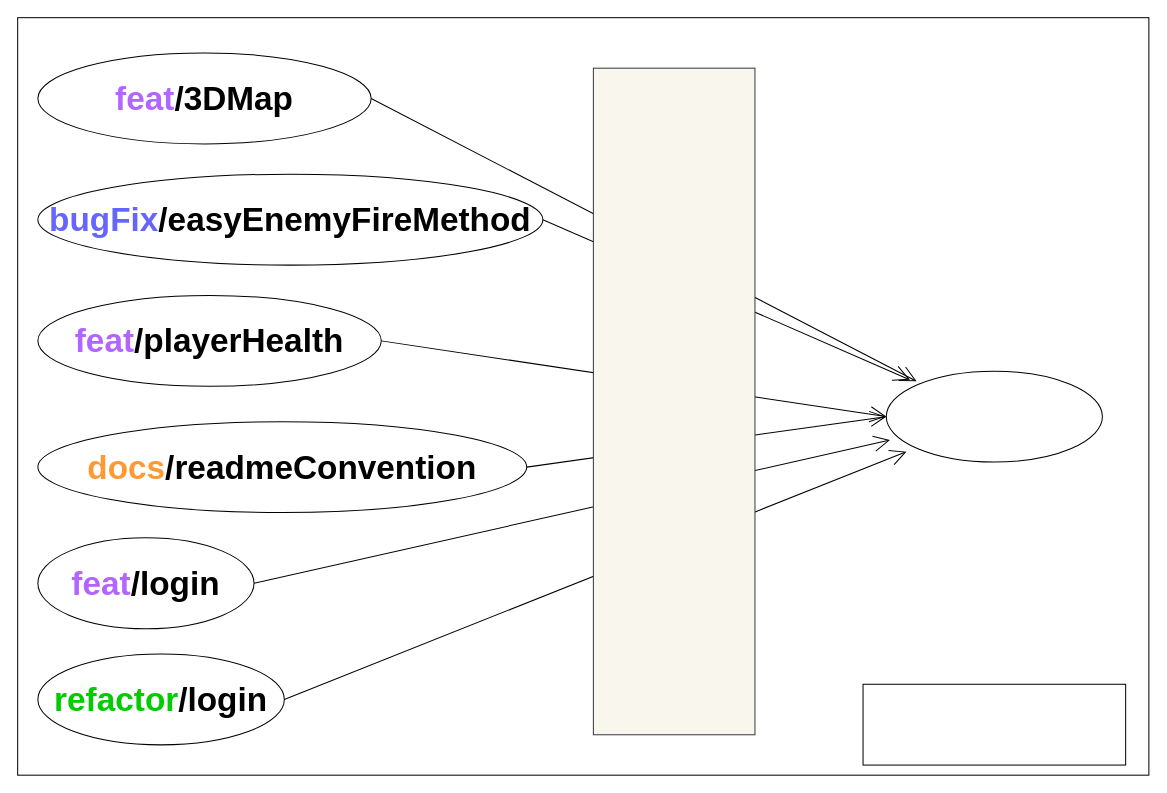
Some shapes in this 1167 by 793 pixel diagram are drawn without their labels. The shapes that lost their labels are listed below. From the top down, each one's centre as x and y in pixels, then its label:
[673,401]: Pull Request & Branch Policy
[993,416]: Main
[994,724]: Diagram by developerasun
